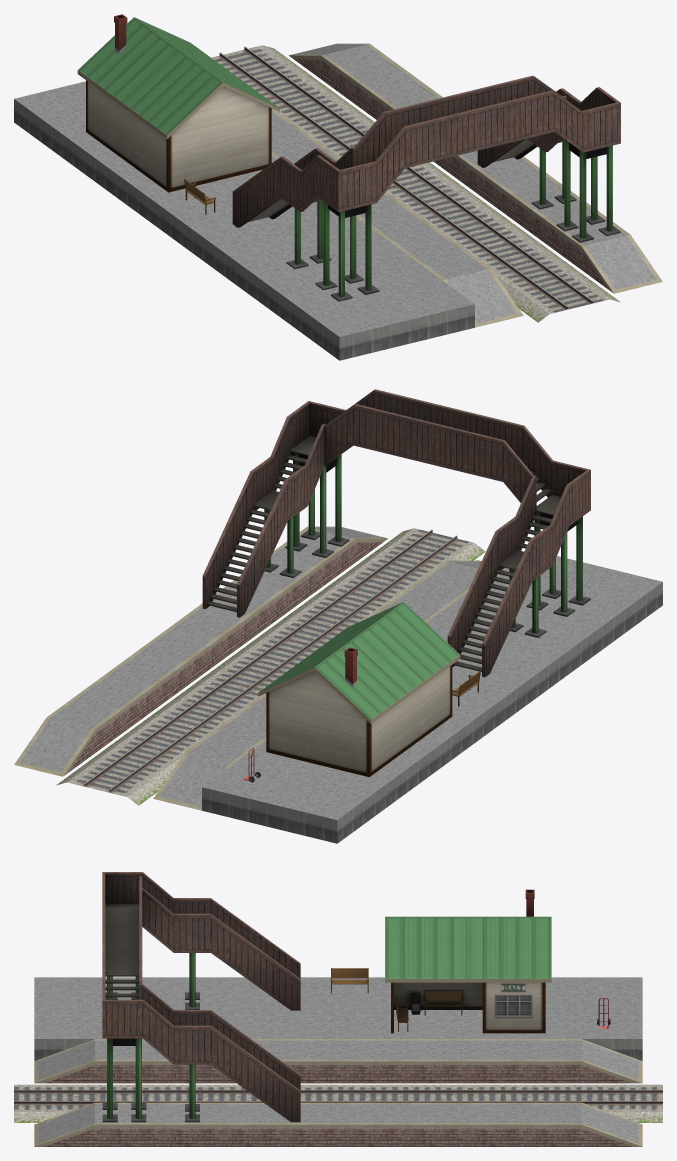
File: StationHalt2.fbx
The picture shows the model from 3 angles, top to bottom: view 1: azimuth 30°, elevation 25°; view 2: azimuth 150°, elevation 25°; view 3: azimuth 270°, elevation 25°; orthographic projection. The views are drawn at different scales.
Parts seen in each view (by area): view 1: U3DMesh; view 2: U3DMesh; view 3: U3DMesh.
Boxes of the visible parts, <box> form: U3DMesh: <box>14,14,662,360</box>; U3DMesh: <box>14,389,662,843</box>; U3DMesh: <box>14,872,662,1146</box>.
Bounding box in the file's own units: 17.2 × 9.23 × 32.
